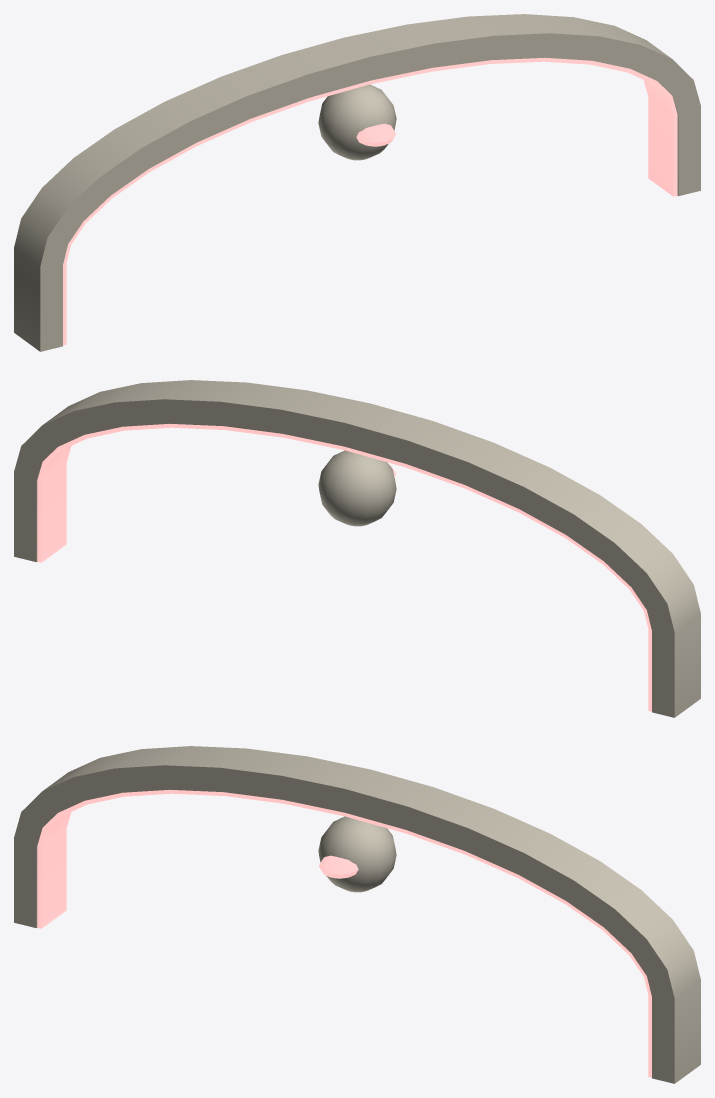
The model's file is scan_gate.glb.
3 renders of one model, top to bottom at view 1: azimuth 30°, elevation 25°; view 2: azimuth 150°, elevation 25°; view 3: azimuth 330°, elevation 25°, orthographic.
Visible parts, largest first — view 1: scan_gate; view 2: scan_gate; view 3: scan_gate.
Part boxes in pixels (x1=…): scan_gate: x1=14, y1=14, x2=700, y2=351; scan_gate: x1=14, y1=380, x2=700, y2=717; scan_gate: x1=14, y1=746, x2=700, y2=1083.
Size of the model in its own units: 29 by 9 by 3.65.
